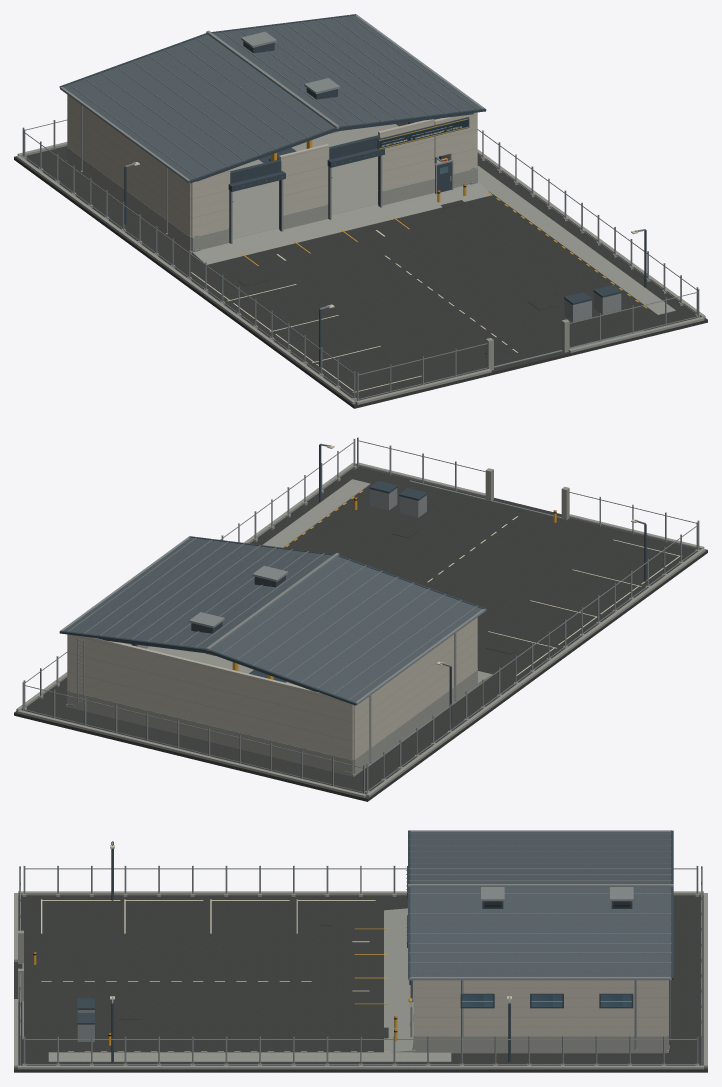
The picture shows the model from 3 angles, top to bottom: view 1: azimuth 30°, elevation 25°; view 2: azimuth 150°, elevation 25°; view 3: azimuth 270°, elevation 25°; orthographic projection.
Parts seen in each view (by area): view 1: VIS_Site_Asphalt_asphalt_LOD0, VIS_Gable_Roof_roof_LOD0, VIS_Front_Wall_limestone_LOD0, VIS_Side_Cladding_limestone_LOD0, VIS_Workshop_Interior_Slab_concrete_LOD0, VIS_Vehicle_Apron_Grade_concrete_LOD0, VIS_Roof_Profile_galvanized_LOD0, VIS_Pedestrian_Path_concrete_LOD0, VIS_Site_Curbs_concrete_LOD0, VIS_Fence_Posts_galvanized_LOD0, VIS_Fence_Rails_galvanized_LOD0, VIS_Front_Plinth_concrete_LOD0 (+12 smaller); view 2: VIS_Site_Asphalt_asphalt_LOD0, VIS_Gable_Roof_roof_LOD0, VIS_Rear_Wall_limestone_LOD0, VIS_Side_Cladding_limestone_LOD0, VIS_Rear_Plith_concrete_LOD0, VIS_Roof_Profile_galvanized_LOD0, VIS_Fence_Posts_galvanized_LOD0, VIS_Fence_Rails_galvanized_LOD0, VIS_Site_Curbs_concrete_LOD0, VIS_Side_Plith_concrete_LOD0, VIS_Roof_Fascia_painted_steel_LOD0, VIS_Pedestrian_Path_concrete_LOD0 (+9 smaller); view 3: VIS_Site_Asphalt_asphalt_LOD0, VIS_Gable_Roof_roof_LOD0, VIS_Side_Cladding_limestone_LOD0, VIS_Roof_Profile_galvanized_LOD0, VIS_Site_Curbs_concrete_LOD0, VIS_Side_Plith_concrete_LOD0, VIS_Pedestrian_Path_concrete_LOD0, VIS_Vehicle_Apron_Grade_concrete_LOD0, VIS_Fence_Posts_galvanized_LOD0, VIS_Fence_Rails_galvanized_LOD0, VIS_Gutter_galvanized_LOD0, VIS_Side_Windows_glass_LOD0 (+12 smaller).
Boxes of the visible parts, x1,y1,x2,y2 form: VIS_Site_Asphalt_asphalt_LOD0: (14,146,707,408); VIS_Gable_Roof_roof_LOD0: (63,15,481,179); VIS_Front_Wall_limestone_LOD0: (191,112,477,236); VIS_Side_Cladding_limestone_LOD0: (67,95,438,237); VIS_Workshop_Interior_Slab_concrete_LOD0: (230,124,441,238); VIS_Vehicle_Apron_Grade_concrete_LOD0: (191,182,492,264); VIS_Roof_Profile_galvanized_LOD0: (68,15,477,178); VIS_Pedestrian_Path_concrete_LOD0: (477,166,675,315); VIS_Site_Curbs_concrete_LOD0: (16,149,705,404); VIS_Fence_Posts_galvanized_LOD0: (22,120,699,400); VIS_Fence_Rails_galvanized_LOD0: (24,119,697,399); VIS_Front_Plinth_concrete_LOD0: (191,167,477,251); VIS_Site_Asphalt_asphalt_LOD0: (14,467,707,801); VIS_Gable_Roof_roof_LOD0: (63,537,482,702); VIS_Rear_Wall_limestone_LOD0: (67,634,353,760); VIS_Side_Cladding_limestone_LOD0: (123,617,477,759); VIS_Rear_Plith_concrete_LOD0: (67,691,353,776); VIS_Roof_Profile_galvanized_LOD0: (68,537,477,699); VIS_Fence_Posts_galvanized_LOD0: (22,437,699,793); VIS_Fence_Rails_galvanized_LOD0: (24,440,697,792); VIS_Site_Curbs_concrete_LOD0: (16,463,705,797); VIS_Side_Plith_concrete_LOD0: (67,644,477,775); VIS_Roof_Fascia_painted_steel_LOD0: (59,536,485,705); VIS_Pedestrian_Path_concrete_LOD0: (262,479,370,547); VIS_Site_Asphalt_asphalt_LOD0: (14,895,707,1072); VIS_Gable_Roof_roof_LOD0: (410,831,670,976); VIS_Side_Cladding_limestone_LOD0: (415,980,666,1036); VIS_Roof_Profile_galvanized_LOD0: (409,833,671,973); VIS_Site_Curbs_concrete_LOD0: (18,891,703,1069); VIS_Side_Plith_concrete_LOD0: (415,1036,666,1053); VIS_Pedestrian_Path_concrete_LOD0: (48,1052,451,1061); VIS_Vehicle_Apron_Grade_concrete_LOD0: (384,908,415,1052); VIS_Fence_Posts_galvanized_LOD0: (19,865,702,1065); VIS_Fence_Rails_galvanized_LOD0: (20,868,701,1064); VIS_Gutter_galvanized_LOD0: (408,830,671,980); VIS_Side_Windows_glass_LOD0: (462,995,631,1006).
Size of the model in its own units: 30 by 8.3 by 50.
Materials: 13 (13 with a texture image).
